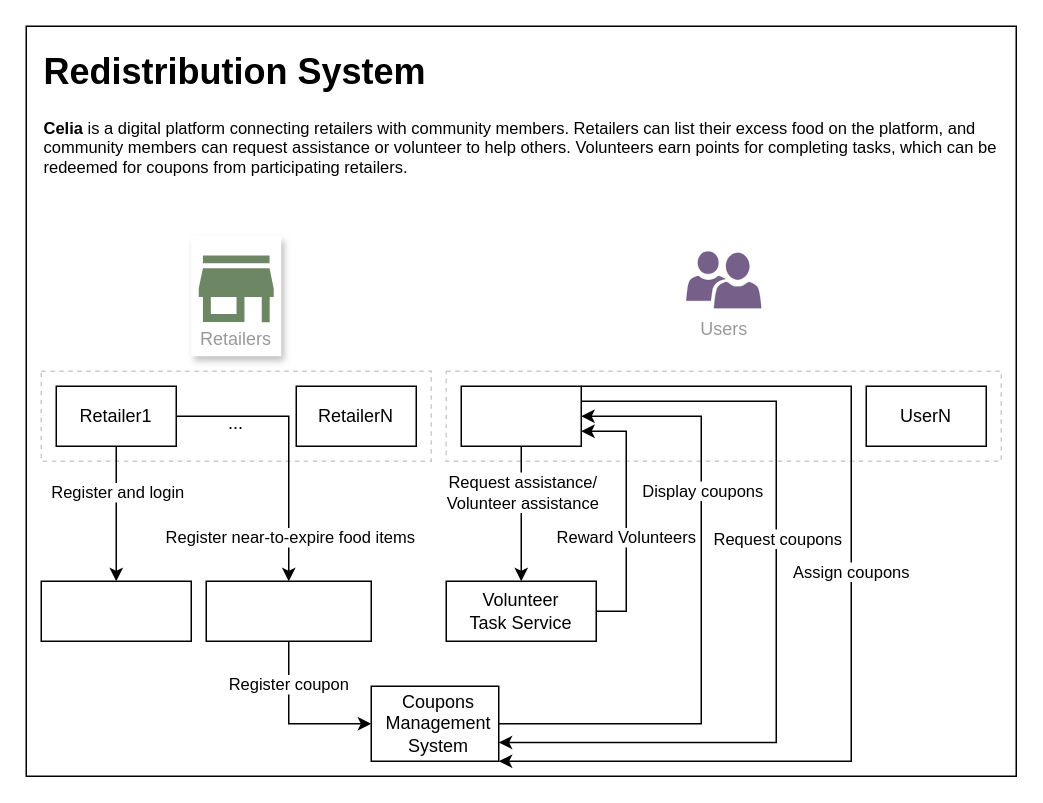
The diagram is 1043 pixels wide and 803 high, and some of its shapes have lost their labels. Here are the shapes that lost their labels. From the top down, the centre of each, then its label:
At [520,415]: "User1".
At [115,610]: "Authentication Service".
At [288,610]: "Food Registry Service".
